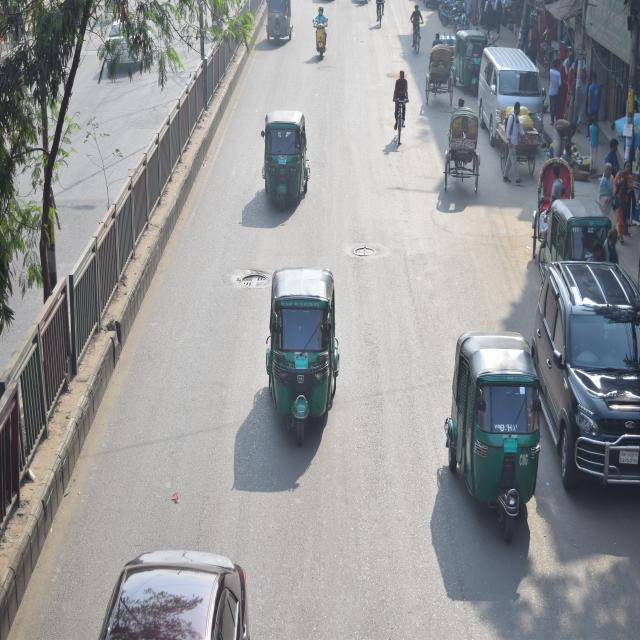car: (530, 262, 640, 487), (90, 542, 254, 640)
microbus: (477, 43, 543, 152)
motorbike: (310, 19, 336, 64)
